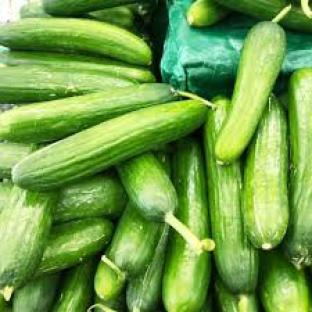Cucumber: (13, 100, 206, 189), (204, 98, 257, 293), (0, 84, 176, 142), (215, 21, 285, 162), (117, 153, 213, 252), (242, 95, 288, 249), (0, 19, 152, 65), (95, 203, 162, 300), (0, 186, 55, 299), (285, 68, 311, 267), (0, 66, 135, 103), (0, 52, 155, 83), (37, 218, 112, 275), (53, 171, 127, 223), (172, 138, 209, 238), (127, 225, 169, 311), (260, 251, 309, 311), (52, 260, 94, 311), (13, 275, 59, 311), (215, 279, 260, 311), (0, 142, 36, 178), (86, 6, 134, 29), (93, 294, 127, 311), (154, 150, 171, 177), (0, 182, 12, 213), (200, 293, 213, 311), (278, 91, 288, 110), (0, 296, 12, 311)
